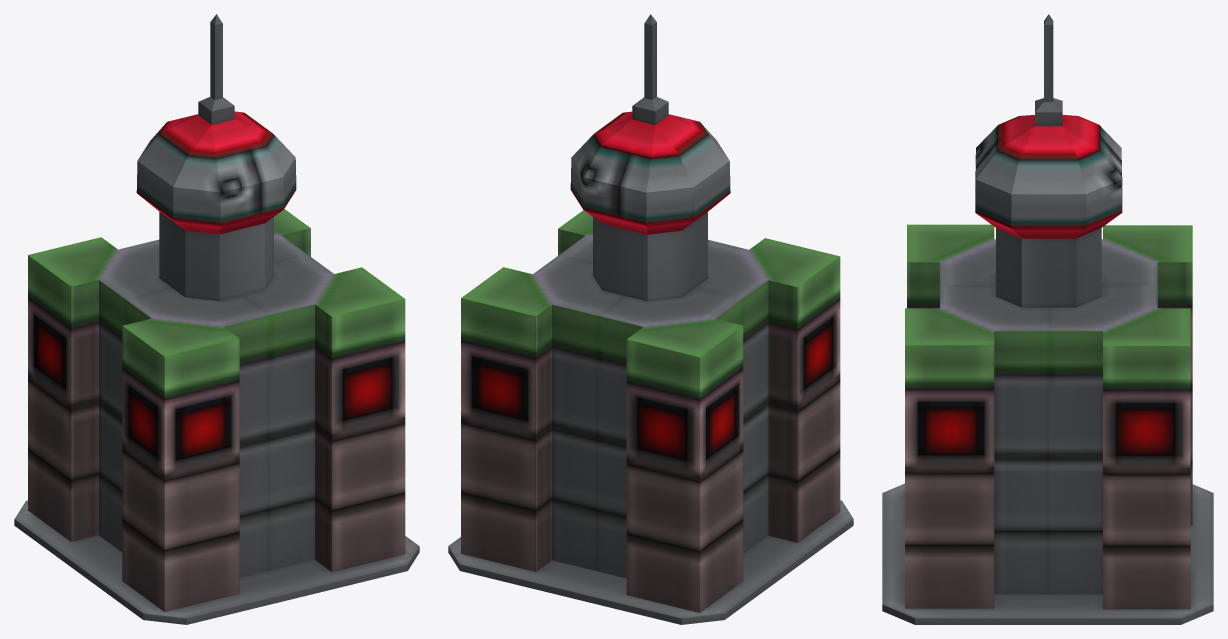
File: russia_house_1.FBX
3 views of the same model, side by side, from view 1: azimuth 30°, elevation 25°; view 2: azimuth 150°, elevation 25°; view 3: azimuth 270°, elevation 25° (orthographic). The views are drawn at different scales.
Parts seen in each view (by area): view 1: russia_house_1; view 2: russia_house_1; view 3: russia_house_1.
Boxes of the visible parts, bbox=[...] form: russia_house_1: bbox=[14, 14, 419, 624]; russia_house_1: bbox=[448, 14, 853, 624]; russia_house_1: bbox=[882, 14, 1213, 624].
Size of the model in its own units: 819 by 1487 by 825.
